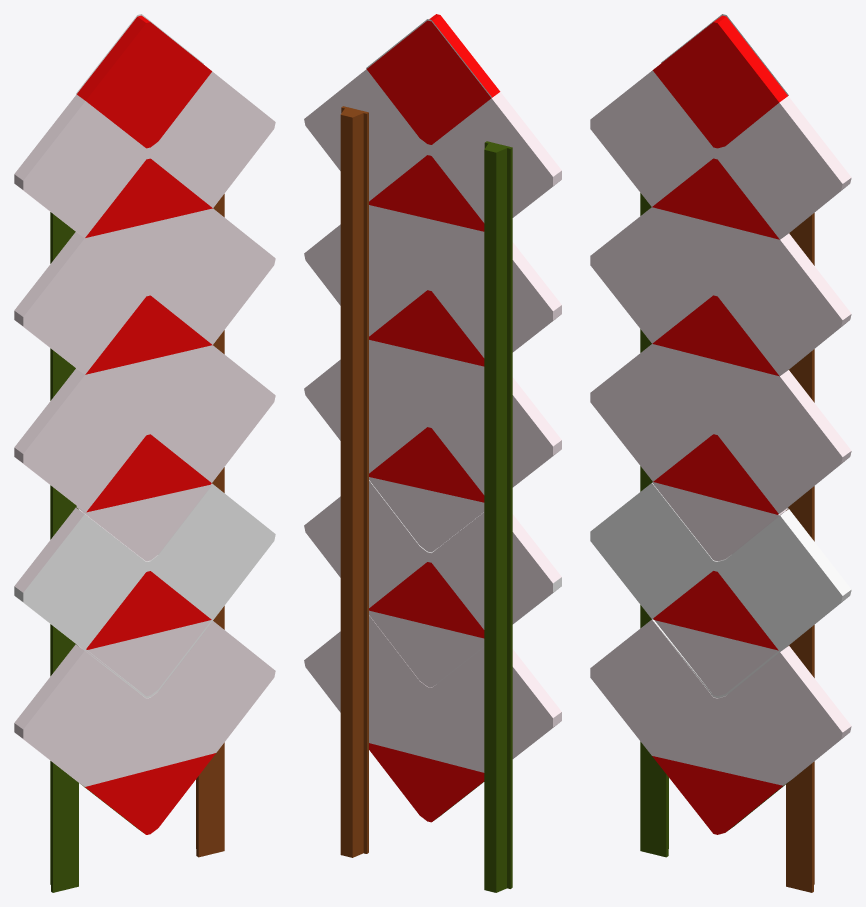
The model's file is flag2.fbx.
3 renders of one model, left to right at view 1: azimuth 30°, elevation 25°; view 2: azimuth 150°, elevation 25°; view 3: azimuth 330°, elevation 25°, orthographic.
Parts seen in each view (by area): view 1: Group1, Group2; view 2: Group1, Group2; view 3: Group1, Group2.
Boxes of the visible parts, x1,y1,x2,y2 form: Group1: (14, 14, 275, 834); Group2: (50, 194, 224, 892); Group1: (304, 14, 561, 822); Group2: (340, 106, 512, 892); Group1: (590, 14, 851, 834); Group2: (640, 193, 814, 892).
Size of the model in its own units: 858 by 2789 by 116.
